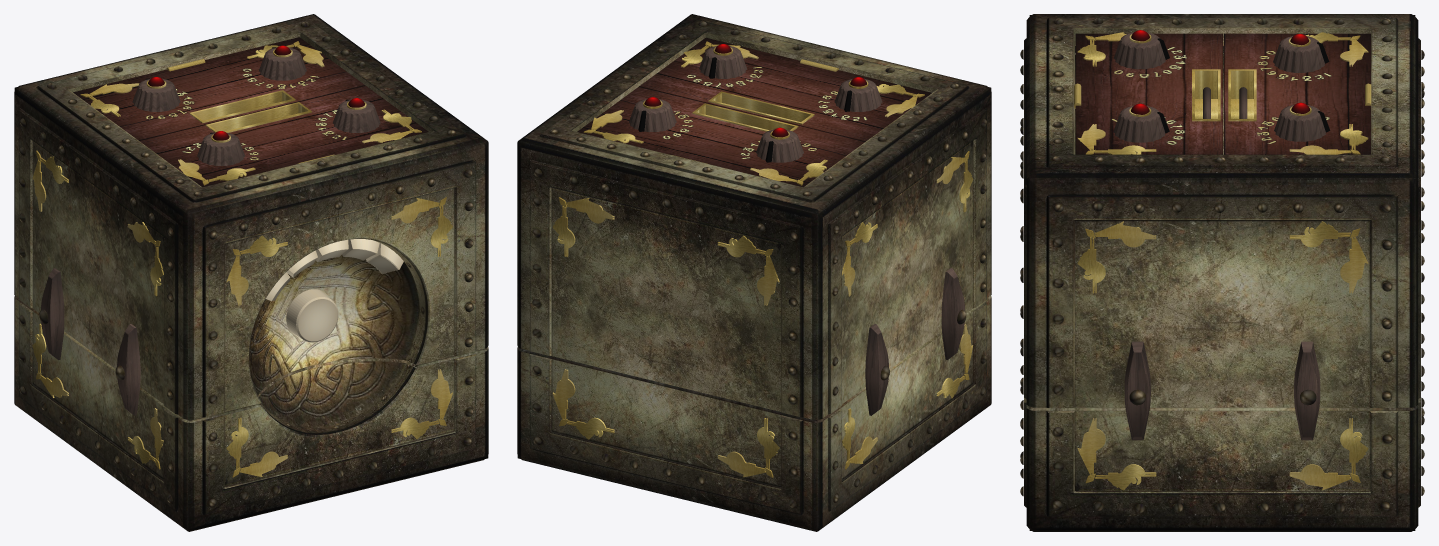
3 renders of one model, left to right at view 1: azimuth 30°, elevation 25°; view 2: azimuth 150°, elevation 25°; view 3: azimuth 270°, elevation 25°, orthographic. The views are drawn at different scales.
Parts seen in each view (by area): view 1: Start_box_Top, Start_box_Bottom, Object001, Object006, MusicCenter_Button, Handle_01, Handle_002, Door_Metal_01, Door_Metal_02, Round_Handle_001, Round_Handle_002, Round_Handle_005 (+7 smaller); view 2: Start_box_Top, Start_box_Bottom, Object006, Object001, Handle_01, Handle_002, Door_Metal_02, Round_Handle_002, Round_Handle_006, Round_Handle_001, Round_Handle_005, Door_Metal_01 (+3 smaller); view 3: Start_box_Top, Start_box_Bottom, Object006, Object001, Handle_003, Handle_004, Round_Handle_006, Round_Handle_001, Round_Handle_005, Round_Handle_002, Door_Metal_01, Door_Metal_02 (+4 smaller).
Part boxes in pixels (box(x1,y1,x2,y2)): Start_box_Top: box(14, 14, 488, 419); Start_box_Bottom: box(14, 295, 488, 531); Object001: box(73, 37, 365, 140); Object006: box(139, 86, 428, 187); MusicCenter_Button: box(286, 289, 338, 342); Handle_01: box(41, 268, 64, 359); Handle_002: box(117, 324, 140, 415); Door_Metal_01: box(189, 90, 295, 123); Door_Metal_02: box(205, 102, 311, 132); Round_Handle_001: box(259, 45, 306, 80); Round_Handle_002: box(132, 77, 180, 111); Round_Handle_005: box(197, 131, 244, 165); Start_box_Top: box(517, 14, 991, 419); Start_box_Bottom: box(517, 295, 991, 531); Object006: box(639, 37, 931, 141); Object001: box(577, 86, 865, 187); Handle_01: box(865, 324, 888, 415); Handle_002: box(941, 268, 964, 359); Door_Metal_02: box(708, 91, 814, 124); Round_Handle_002: box(756, 127, 803, 162); Round_Handle_006: box(699, 44, 746, 78); Round_Handle_001: box(629, 97, 676, 132); Round_Handle_005: box(834, 77, 882, 111); Door_Metal_01: box(692, 103, 798, 131); Start_box_Top: box(1020, 14, 1424, 407); Start_box_Bottom: box(1020, 272, 1424, 531); Object006: box(1075, 33, 1222, 154); Object001: box(1224, 33, 1370, 154); Handle_003: box(1124, 341, 1150, 440); Handle_004: box(1294, 341, 1320, 440); Round_Handle_006: box(1113, 103, 1169, 142); Round_Handle_001: box(1274, 102, 1330, 141); Round_Handle_005: box(1114, 30, 1169, 69); Round_Handle_002: box(1273, 34, 1329, 72); Door_Metal_01: box(1228, 69, 1256, 121); Door_Metal_02: box(1192, 69, 1220, 121).
Bounding box in the file's own units: 114224 × 111659 × 104817.
